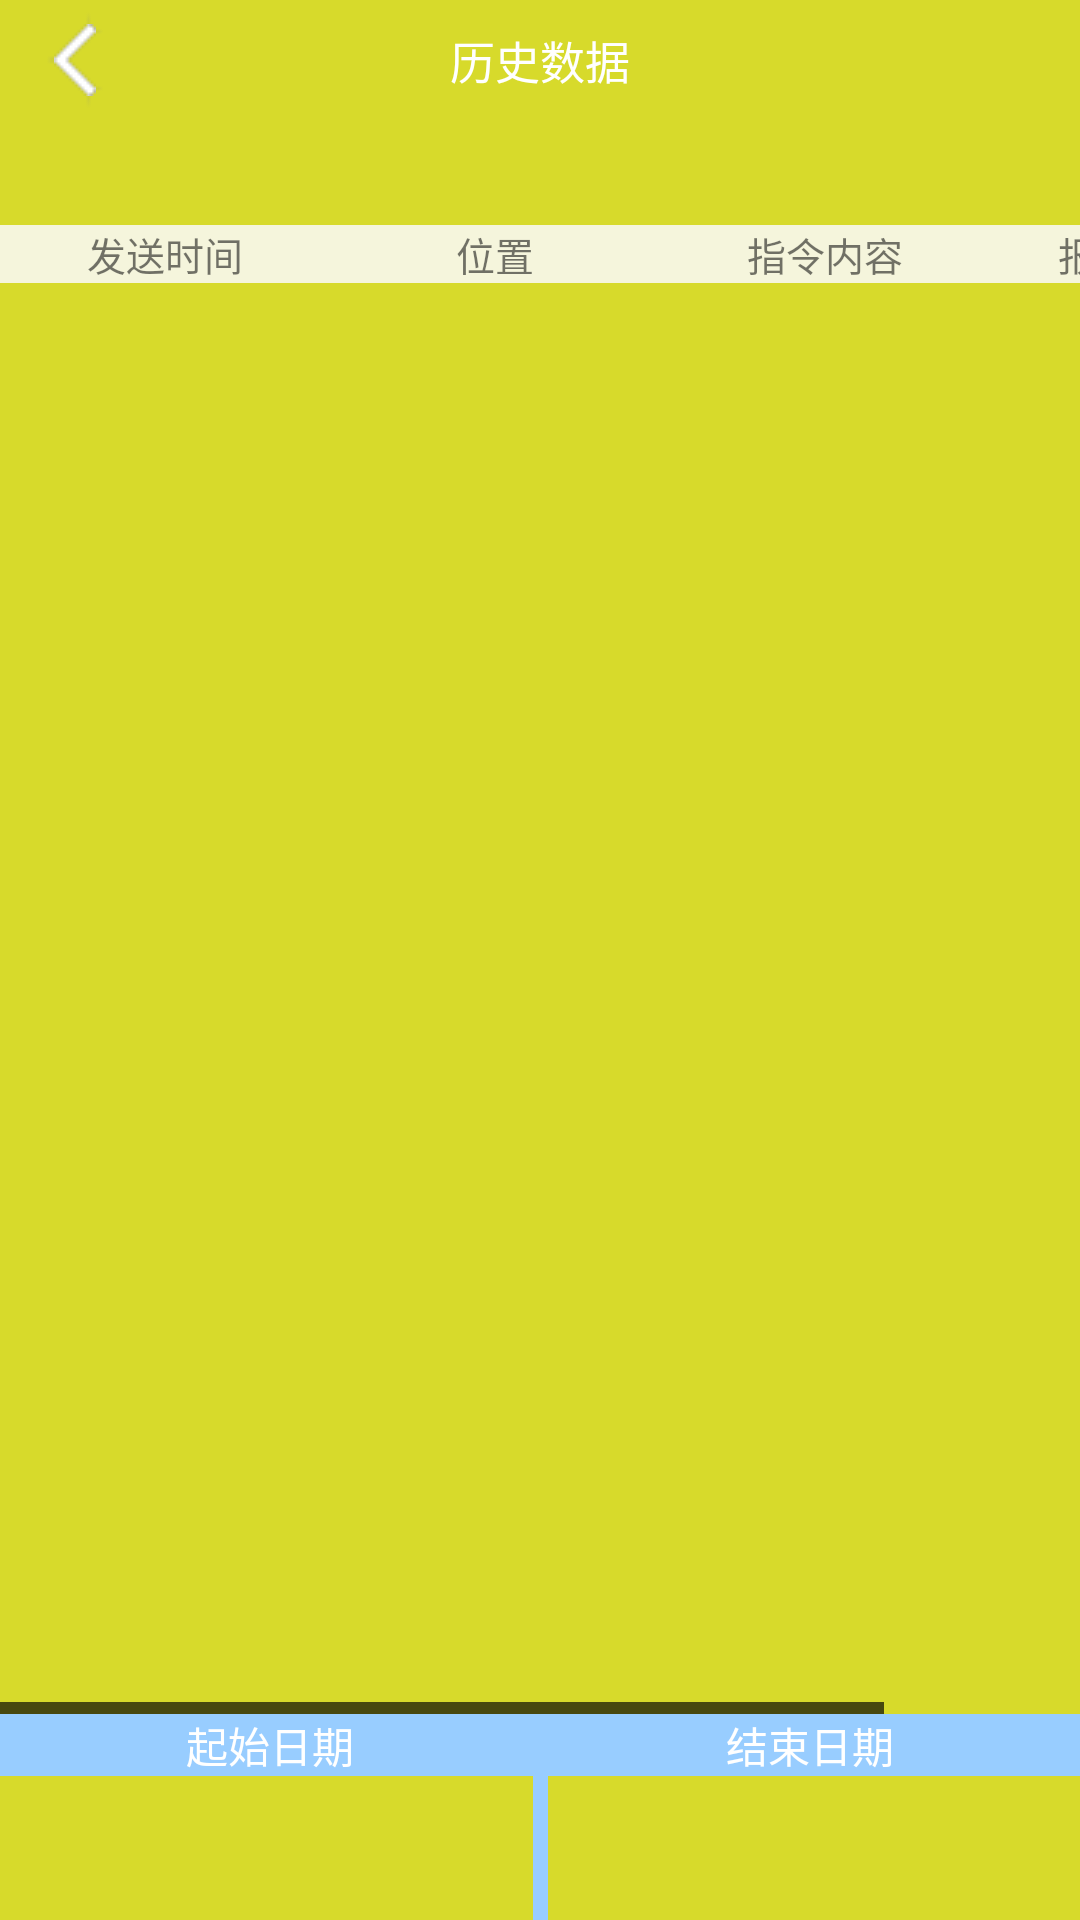

Point at icon controls on the screen. Image size 1080x1920, points as point (x, y).
backward change: point (75, 60)
